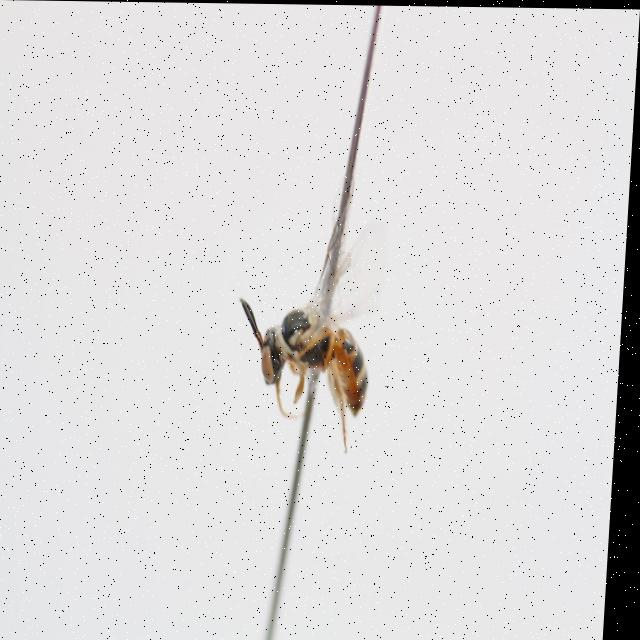Allodapula: (231, 272, 403, 452)
